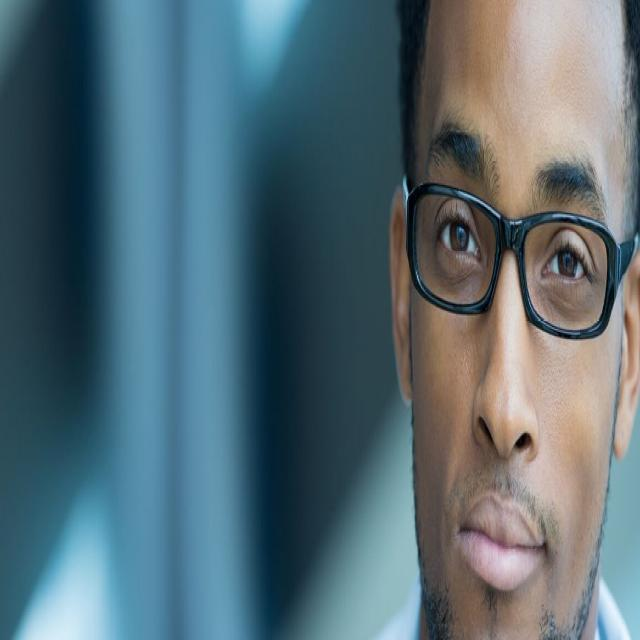Glasses: (402, 169, 640, 349)
